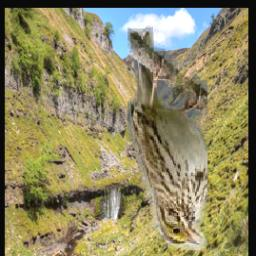Sparrow: (128, 25, 207, 250)
